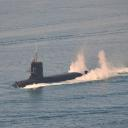submarine: (14, 39, 90, 89)
